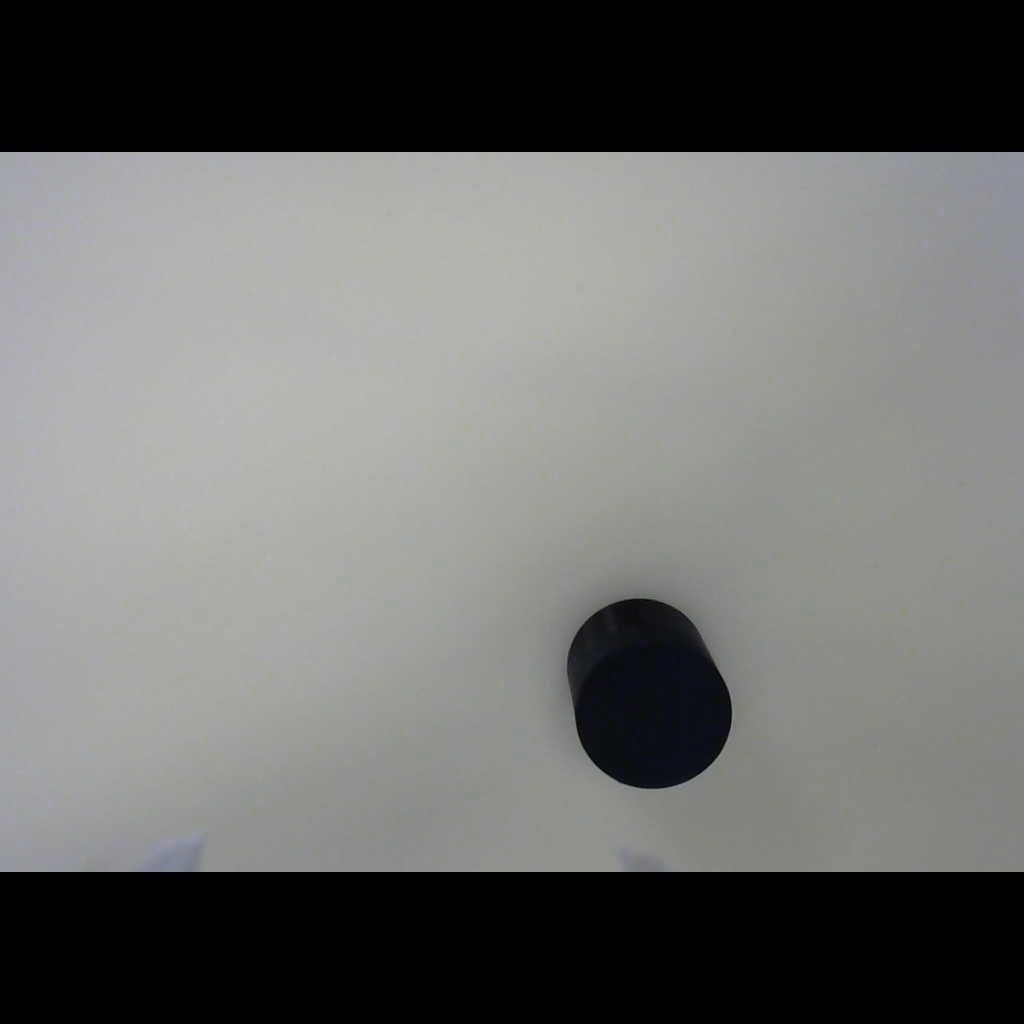circle: (548, 582, 748, 807)
